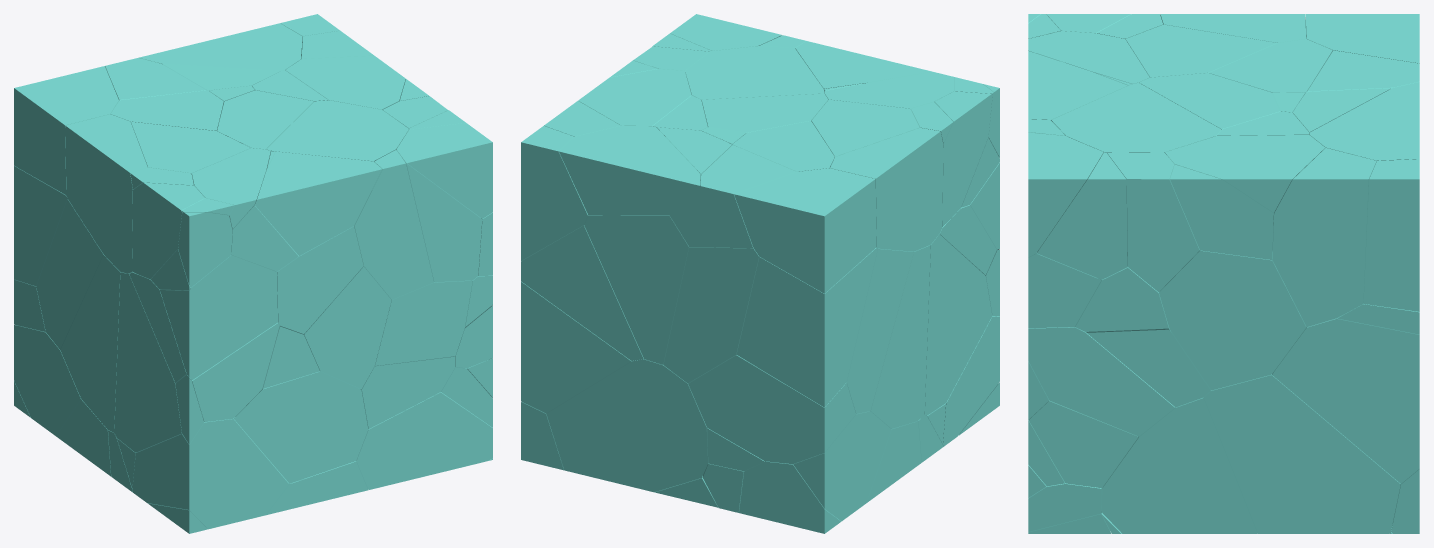
File: CubeFractured.glb
3 renders of one model, left to right at view 1: azimuth 30°, elevation 25°; view 2: azimuth 150°, elevation 25°; view 3: azimuth 270°, elevation 25°, orthographic. The views are drawn at different scales.
Parts seen in each view (by area): view 1: CubeFractured_vat; view 2: CubeFractured_vat; view 3: CubeFractured_vat.
Boxes of the visible parts, box(x1,y1,x2,y2) form: CubeFractured_vat: box(14, 14, 492, 533); CubeFractured_vat: box(521, 14, 999, 533); CubeFractured_vat: box(1028, 14, 1419, 533).
Size of the model in its own units: 2 by 2 by 2.
